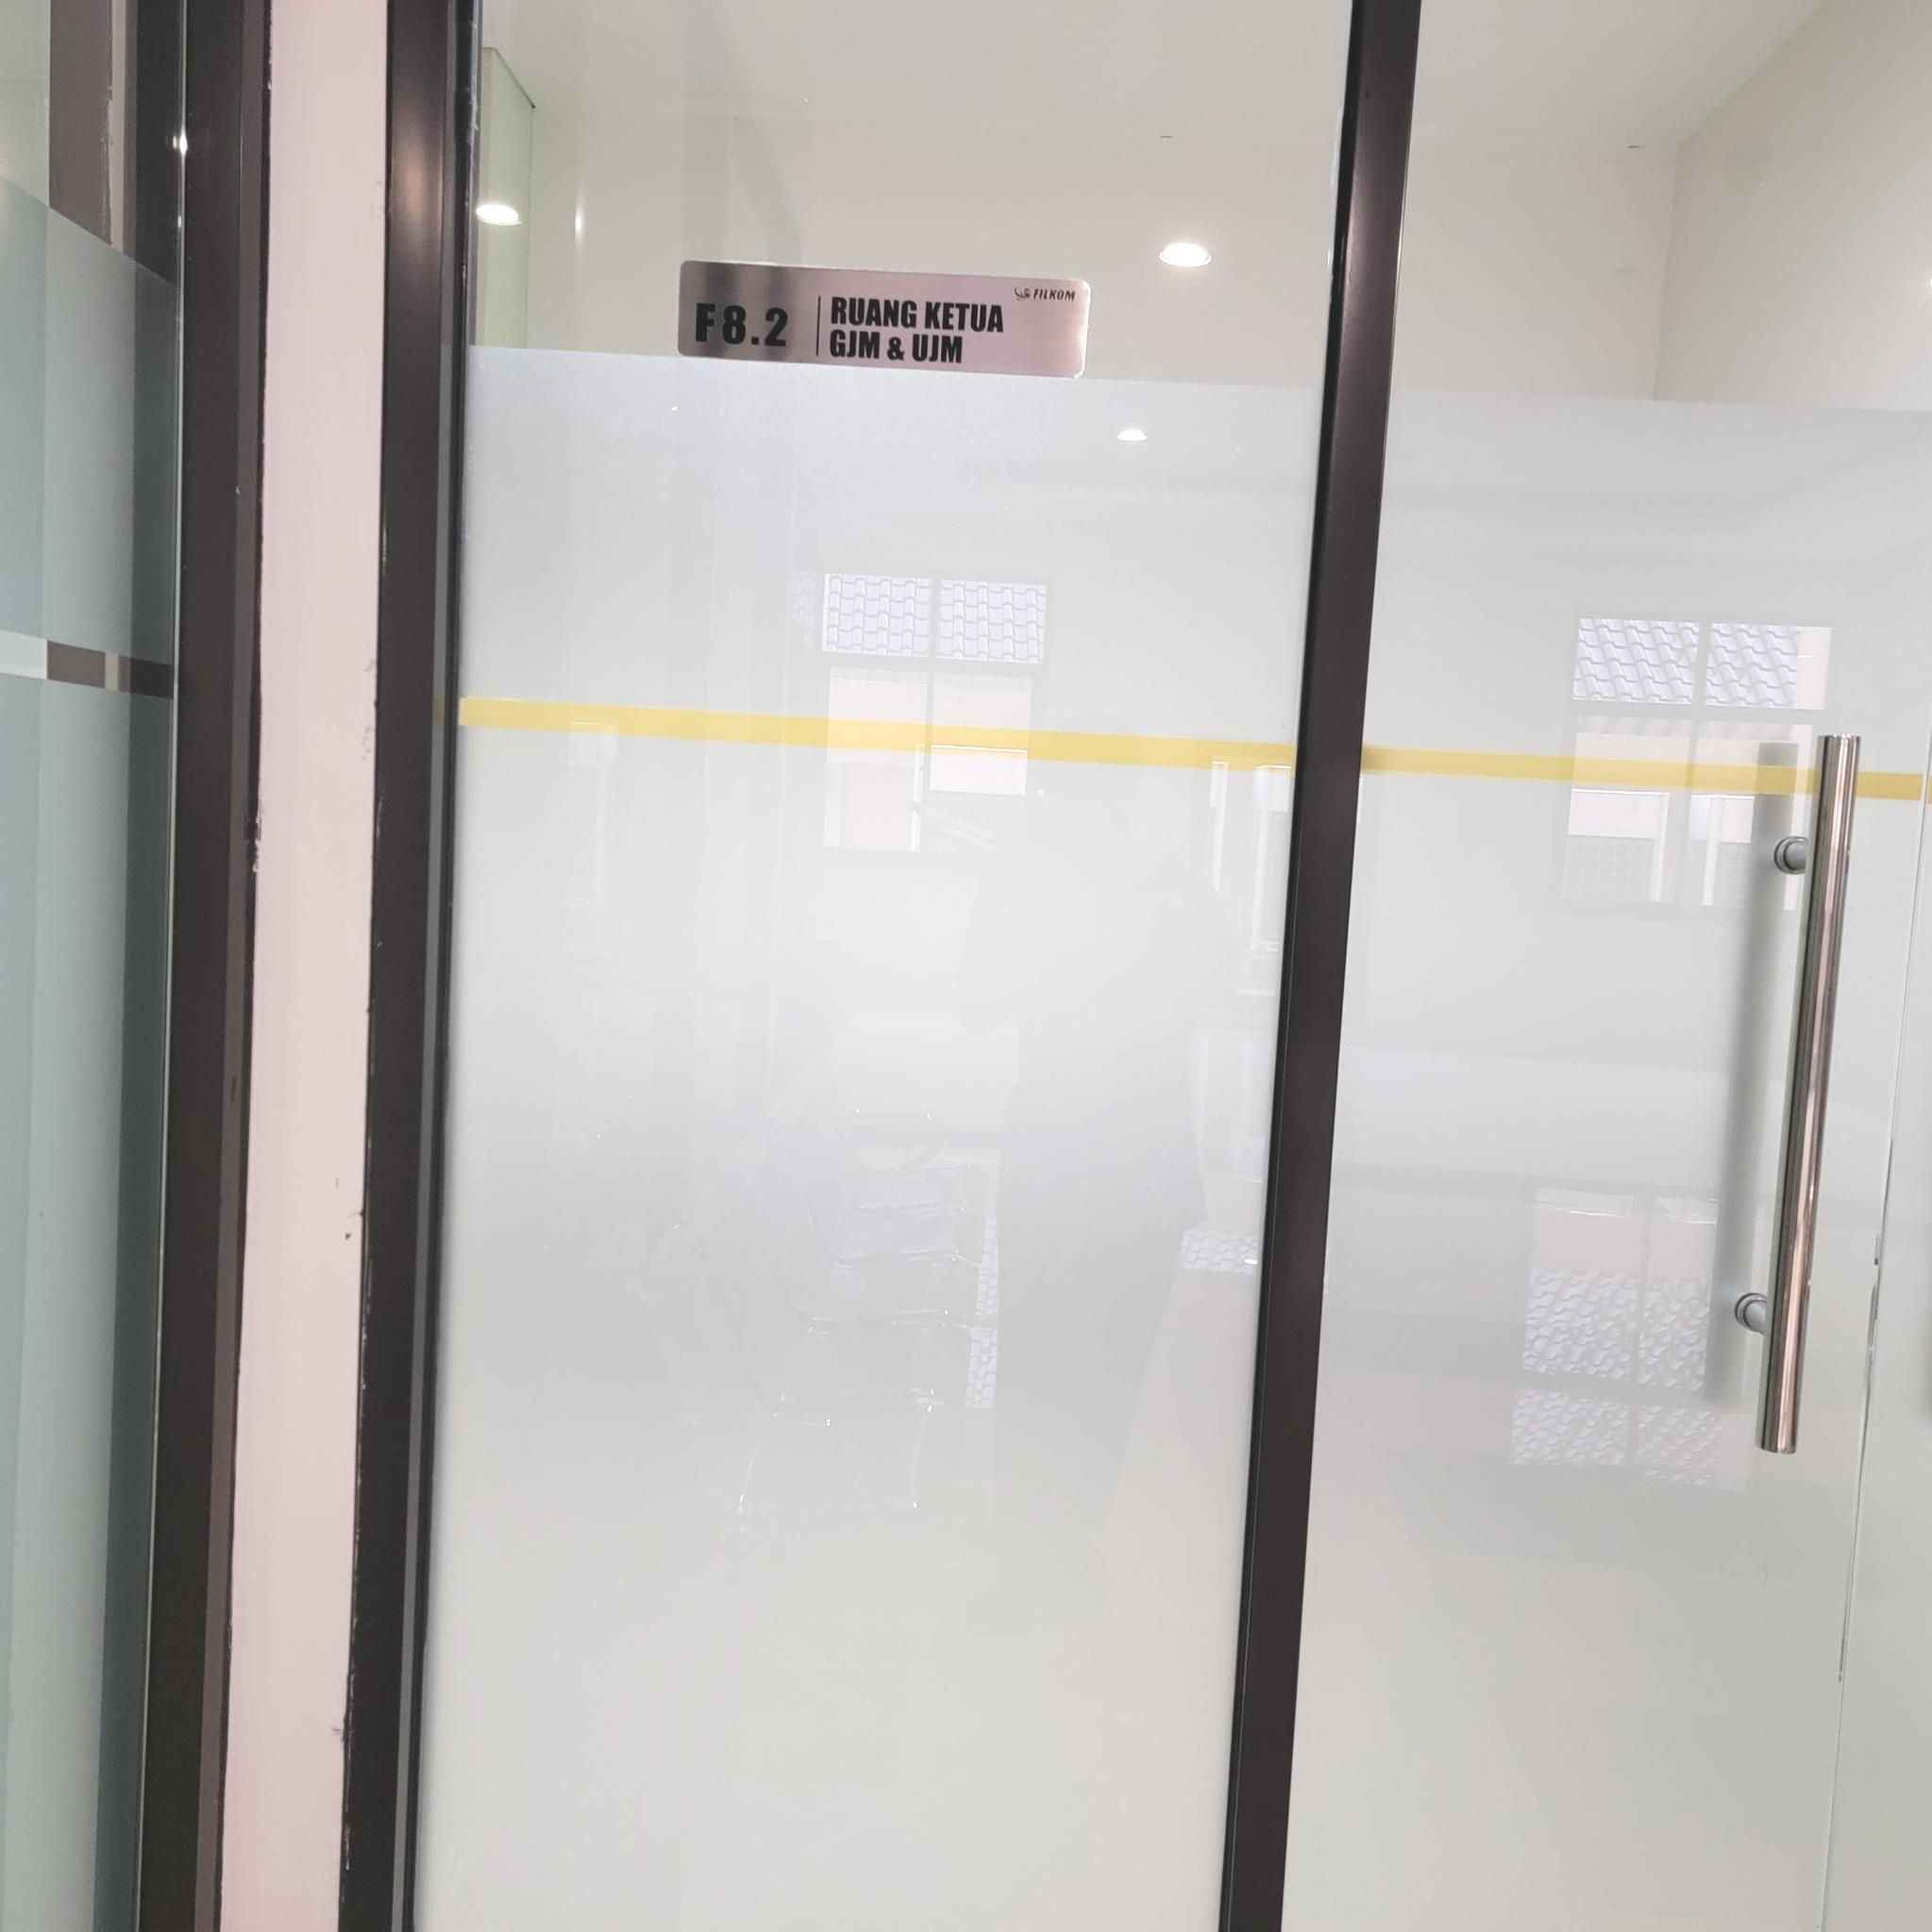plate: (676, 253, 1092, 384)
